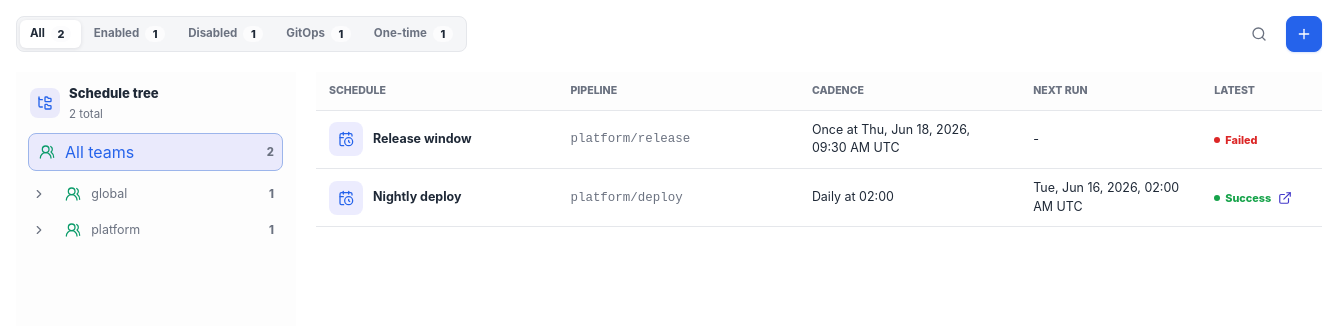
Test case: ScheduleWorkspace › filters visible schedules by state and tree team path
Click the tab "GitOps 1": (319, 34) x1=276 y1=20 x2=361 y2=48
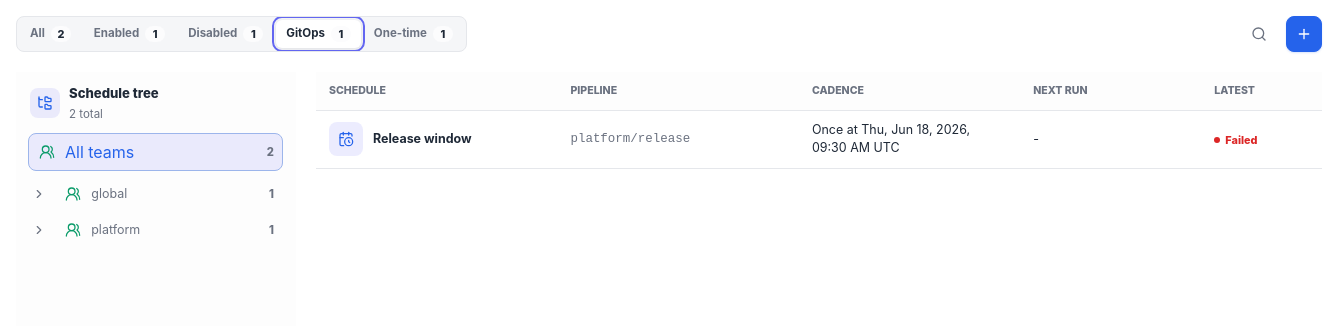
Expected: the text "Release window" is shown, x1=373 y1=130 x2=472 y2=149
Expected: the button "Nightly deploy" is gone
Click the button named "Expand platform": (39, 230) x1=28 y1=216 x2=50 y2=244
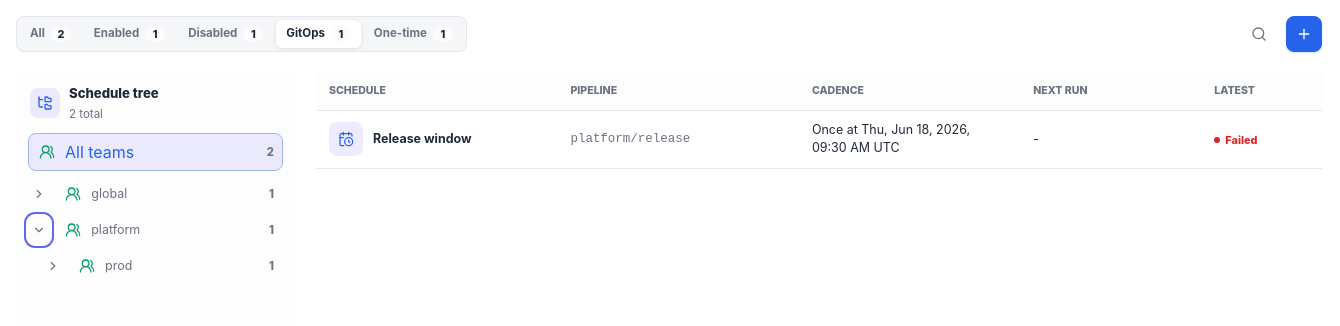
Click the button with aria-label "Open team platform/prod": (176, 266) x1=68 y1=250 x2=283 y2=282
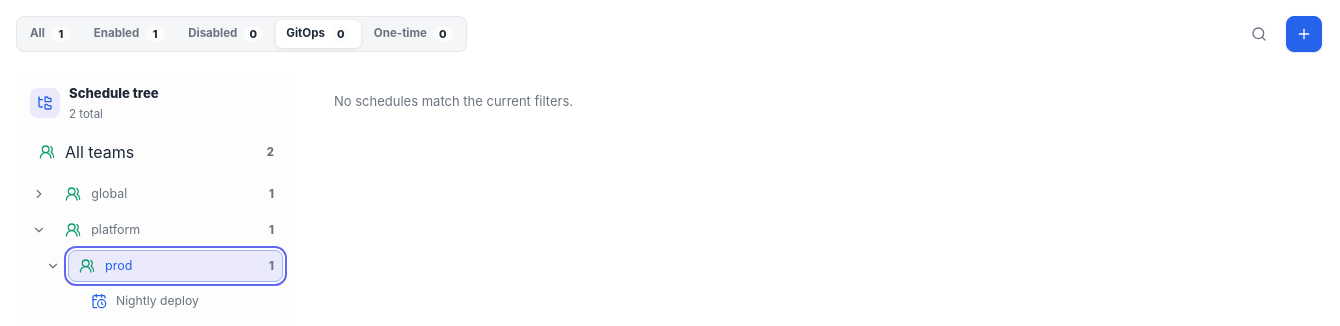
Expected: the text "No schedules match the current filters." is shown, x1=334 y1=93 x2=573 y2=109
